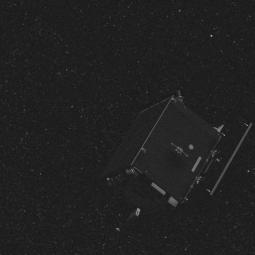proba_2: (105, 84, 255, 218)
